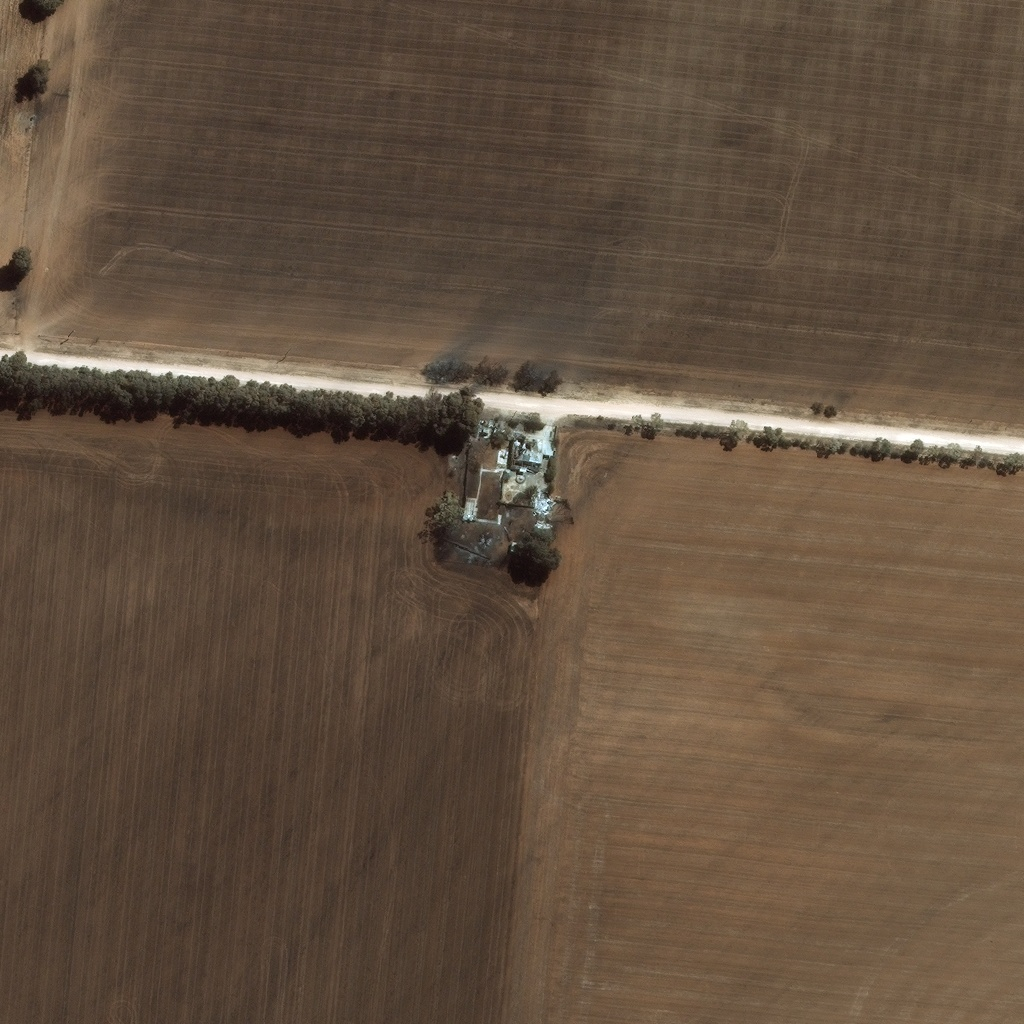3 destroyed: (510, 432, 554, 468), (469, 417, 497, 433), (535, 485, 550, 505), (516, 469, 526, 478)
